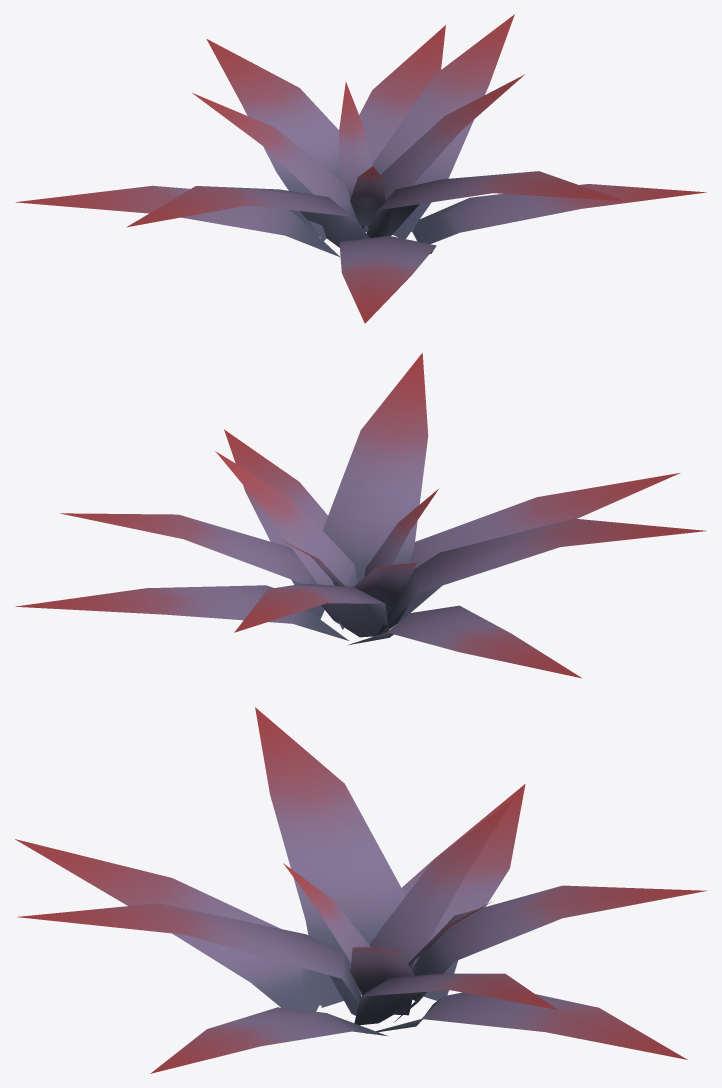
Rendered from plant_08.fbx.
3 renders of one model, top to bottom at view 1: azimuth 30°, elevation 25°; view 2: azimuth 150°, elevation 25°; view 3: azimuth 270°, elevation 25°, orthographic. The views are drawn at different scales.
Parts seen in each view (by area): view 1: plant_08; view 2: plant_08; view 3: plant_08.
Boxes of the visible parts, x1,y1,x2,y2 form: plant_08: (15, 14, 706, 323); plant_08: (15, 353, 706, 678); plant_08: (15, 707, 707, 1073).
Bounding box in the file's own units: 3.87 × 0.914 × 3.82.
